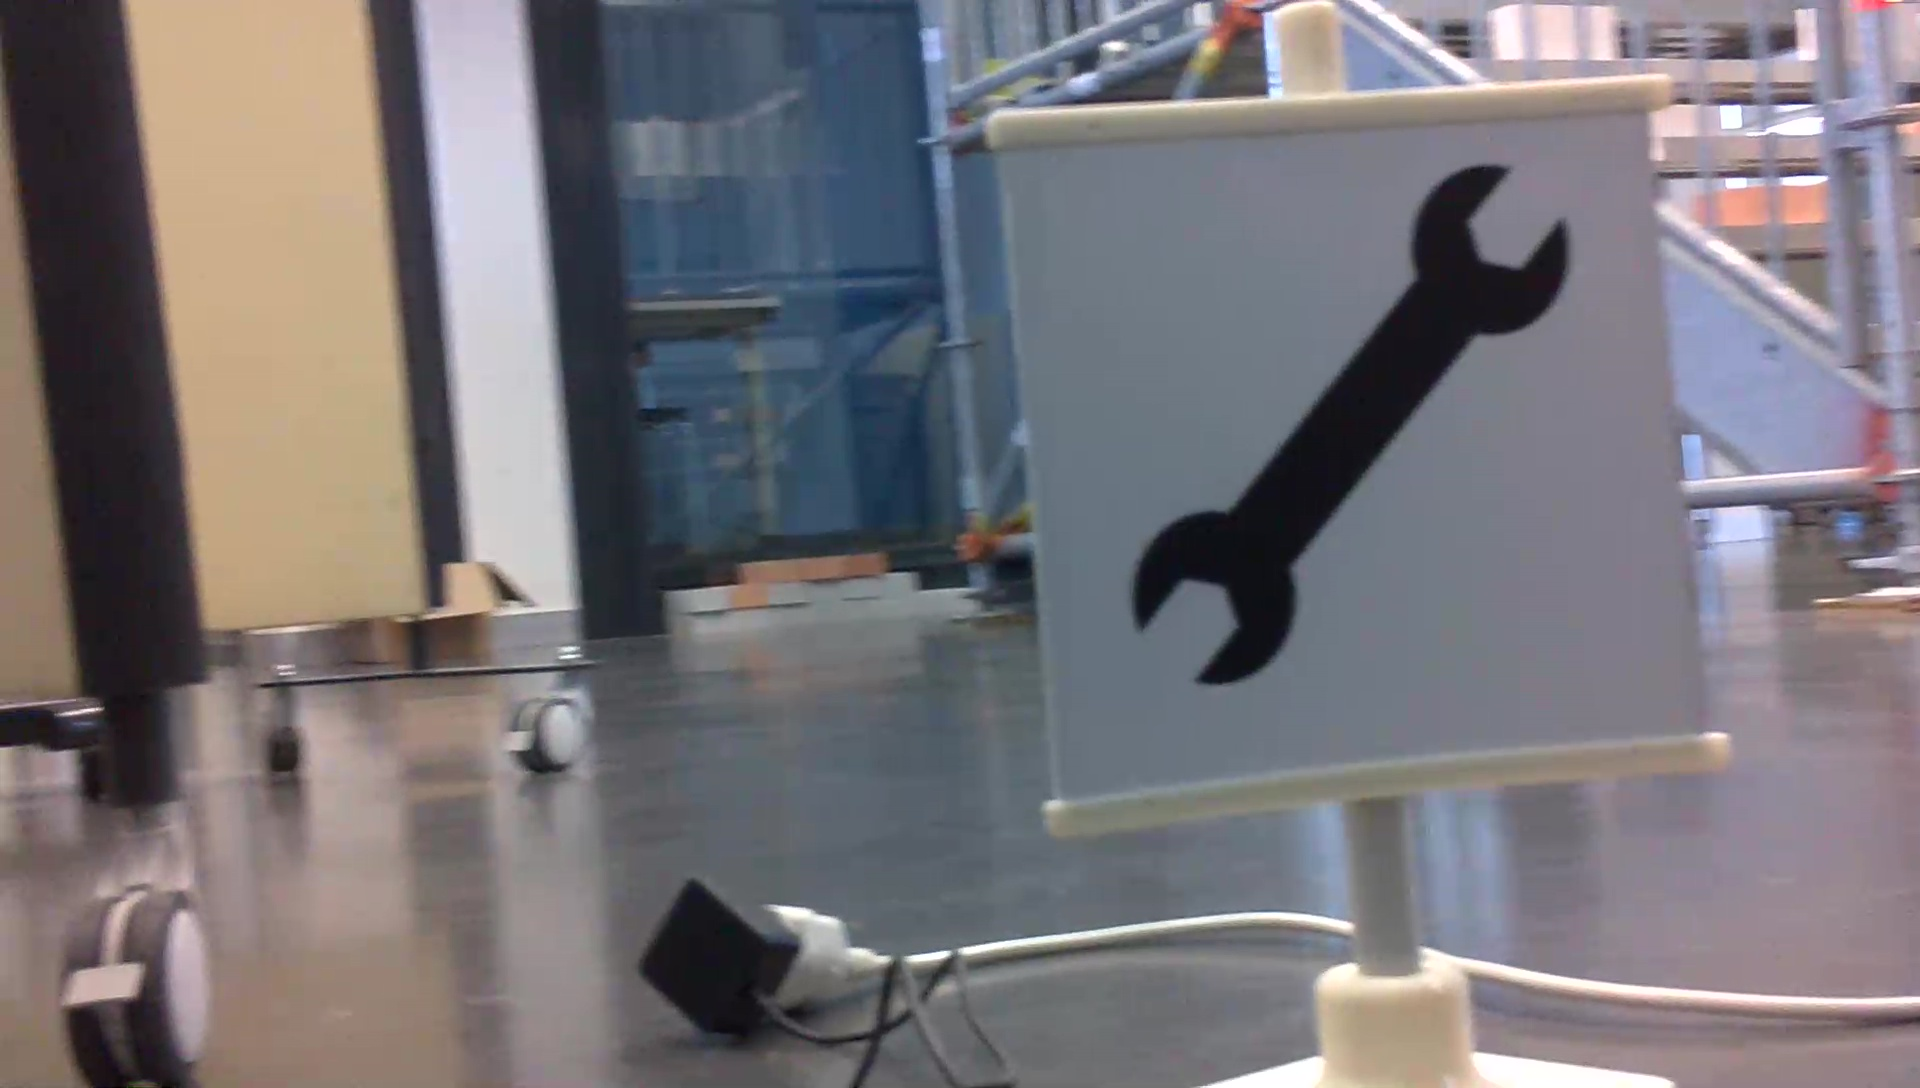wrench: (1113, 156, 1585, 695)
